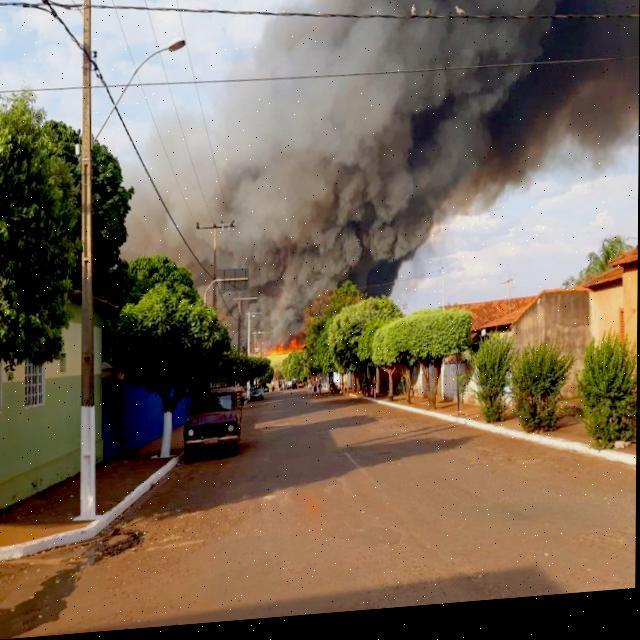Fire: (262, 345, 302, 371)
